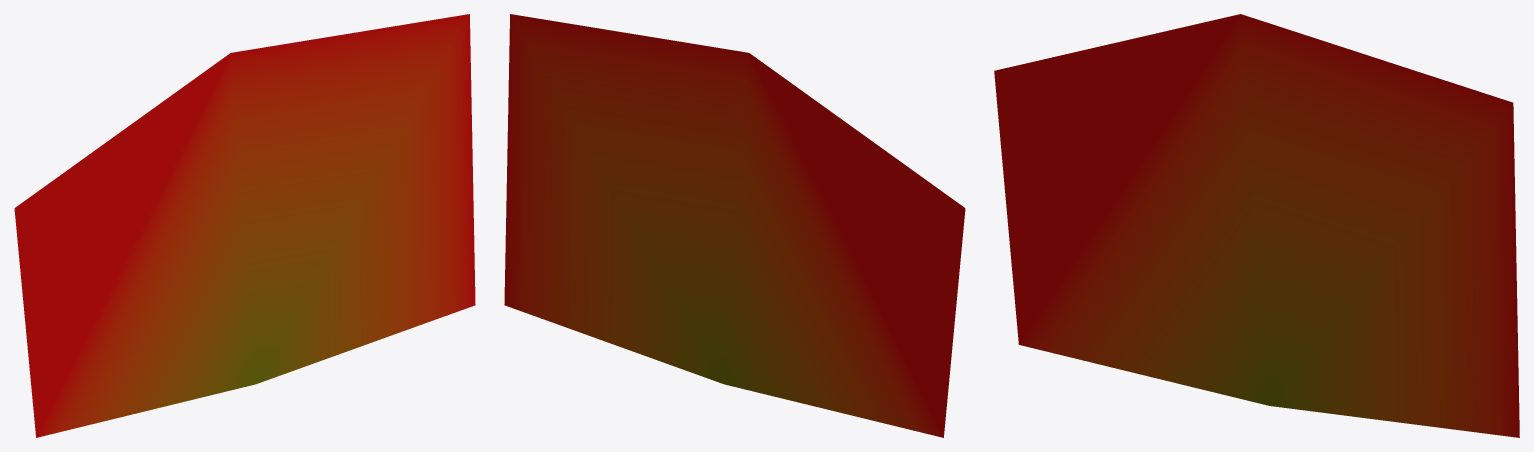
File: Var2_LOD3.fbx
3 renders of one model, left to right at view 1: azimuth 30°, elevation 25°; view 2: azimuth 150°, elevation 25°; view 3: azimuth 330°, elevation 25°, orthographic. The views are drawn at different scales.
Visible parts, largest first — view 1: _5556_Var2_LOD3; view 2: _5556_Var2_LOD3; view 3: _5556_Var2_LOD3.
Part boxes in pixels (<box>): _5556_Var2_LOD3: <box>14,14,475,437</box>; _5556_Var2_LOD3: <box>504,14,965,437</box>; _5556_Var2_LOD3: <box>994,14,1519,437</box>.
Bounding box in the file's own units: 149 × 104 × 4.29e-06.
